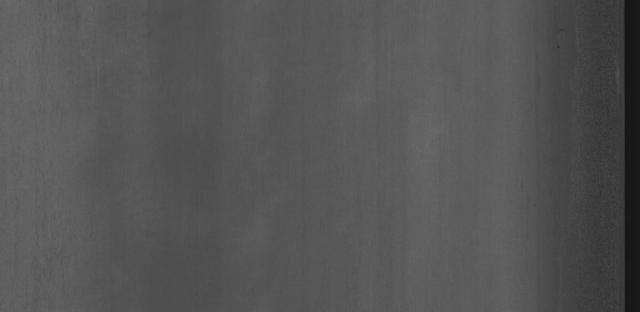silk_spot: (15, 9, 106, 300)
